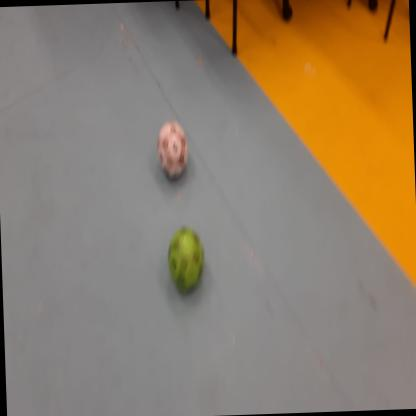ball: (167, 226, 206, 296), (156, 120, 190, 182)
